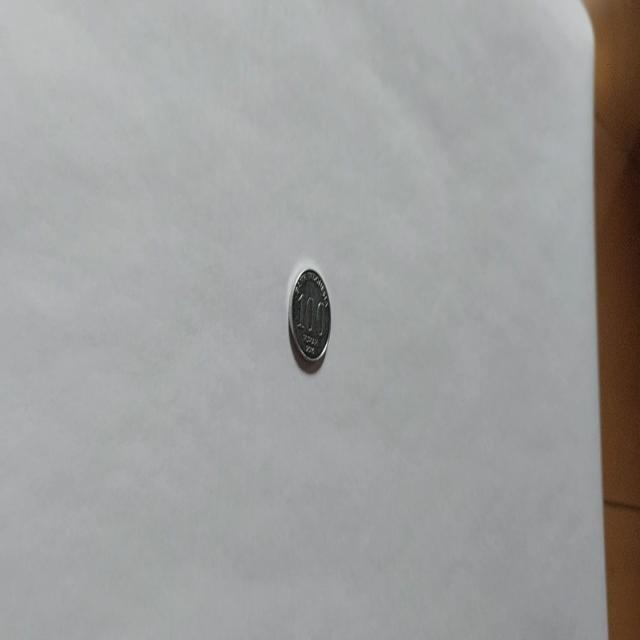seratus rupiah: (288, 266, 332, 366)
